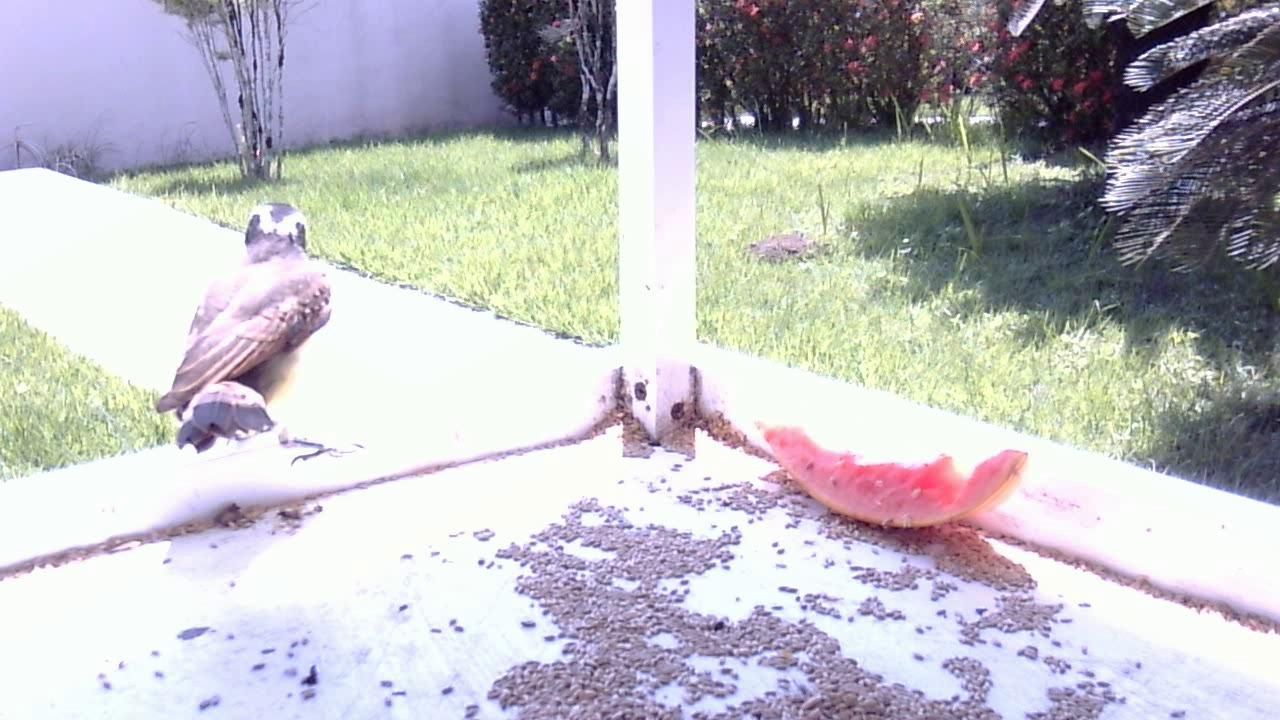bem_te_vi: (140, 191, 381, 494)
